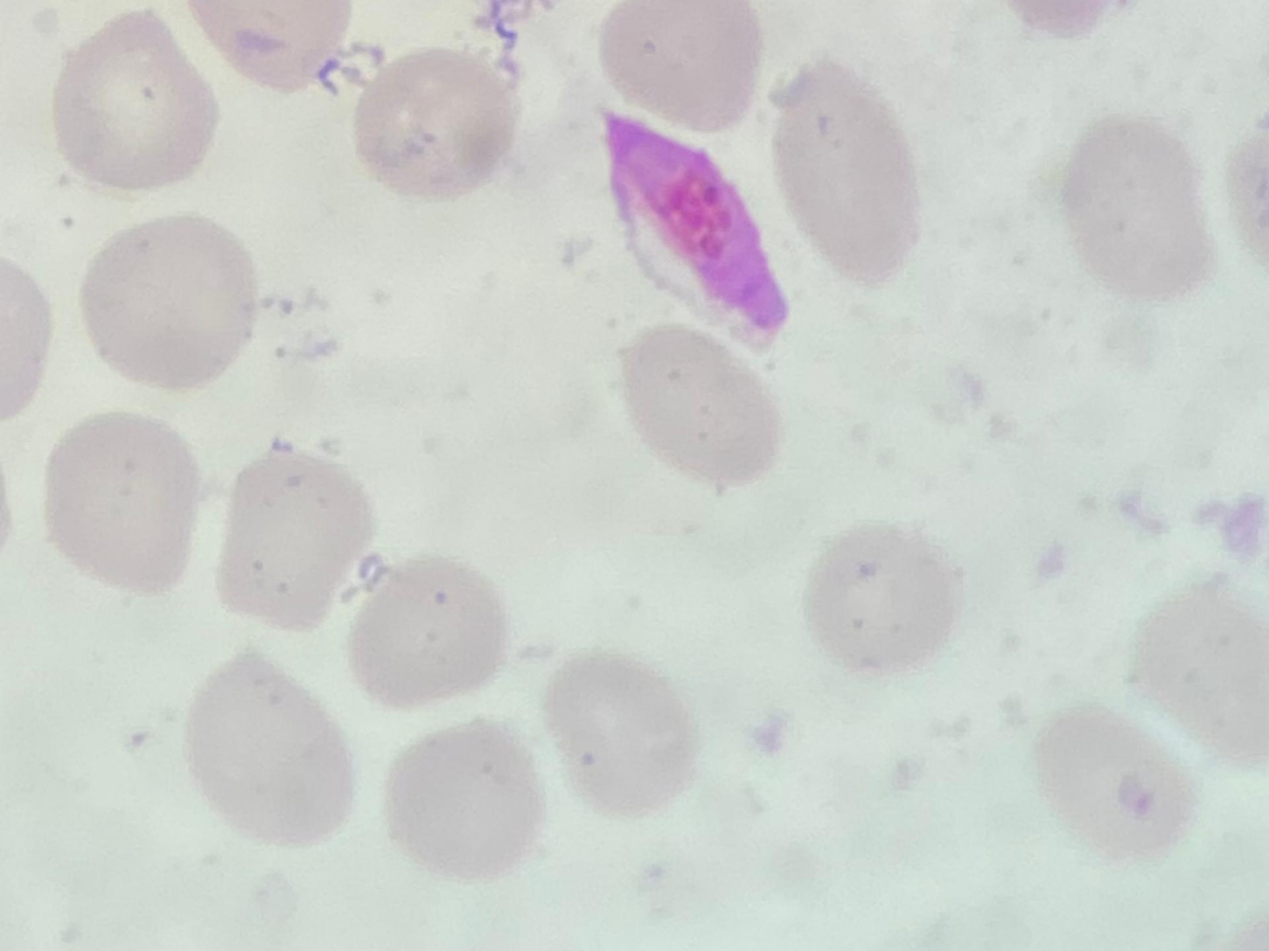Infected: (599, 109, 781, 337)
Uninfected: (775, 62, 922, 290), (189, 651, 351, 837), (84, 217, 257, 390), (212, 450, 379, 627), (57, 10, 216, 187), (51, 413, 201, 593), (1066, 126, 1213, 302), (1035, 697, 1197, 855), (383, 714, 545, 871), (628, 320, 783, 484), (551, 648, 702, 810), (800, 521, 962, 671), (357, 47, 520, 196), (348, 558, 510, 706)
